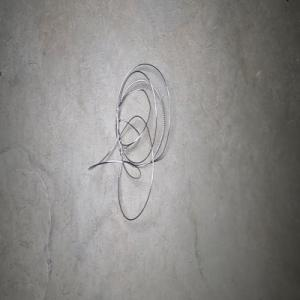Wire: (88, 63, 170, 220)
